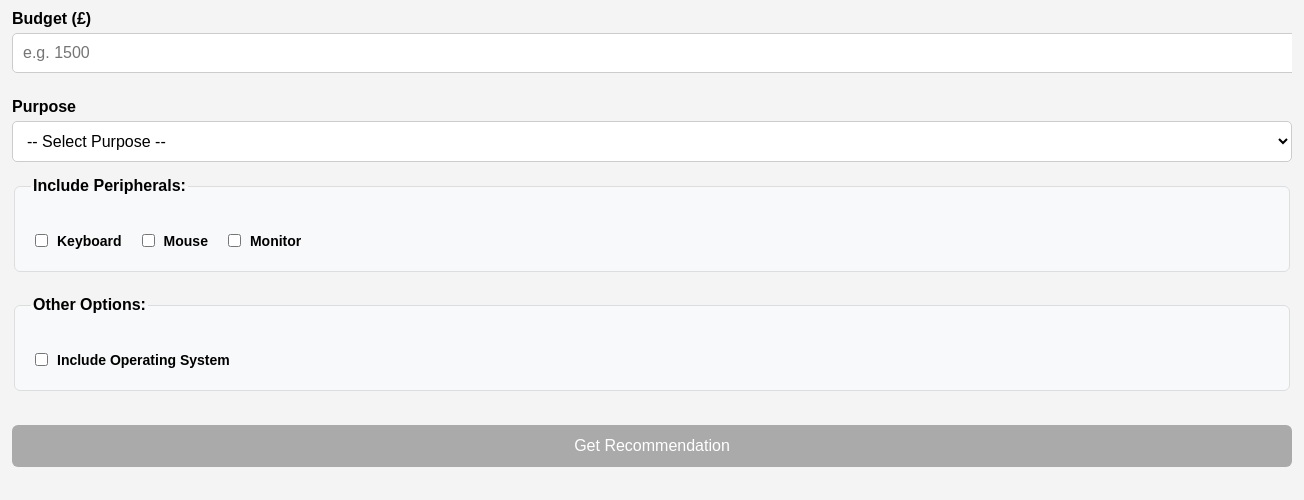
PCBuilder Component › renders budget input and validates range
The image size is (1304, 500).
Type "300" into the number field with placeholder "e.g. 1500". click: (652, 53)
box: 12,33 -> 1292,73
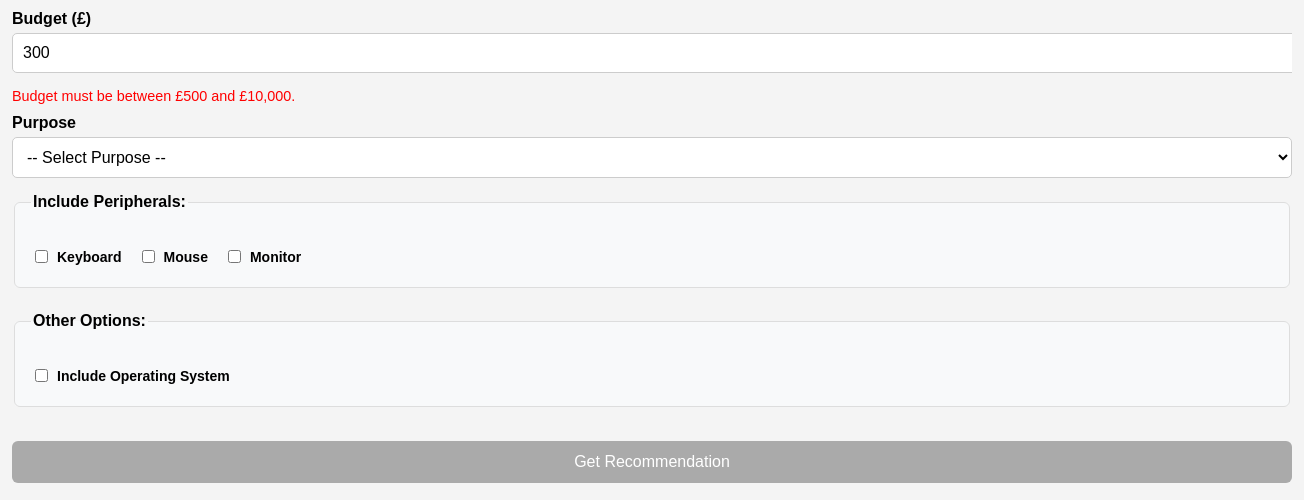
Now the text "Budget must be between £500 and £10,000." is shown, box 12,88 -> 295,104
